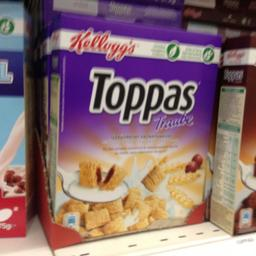cereal: (44, 12, 222, 246)
